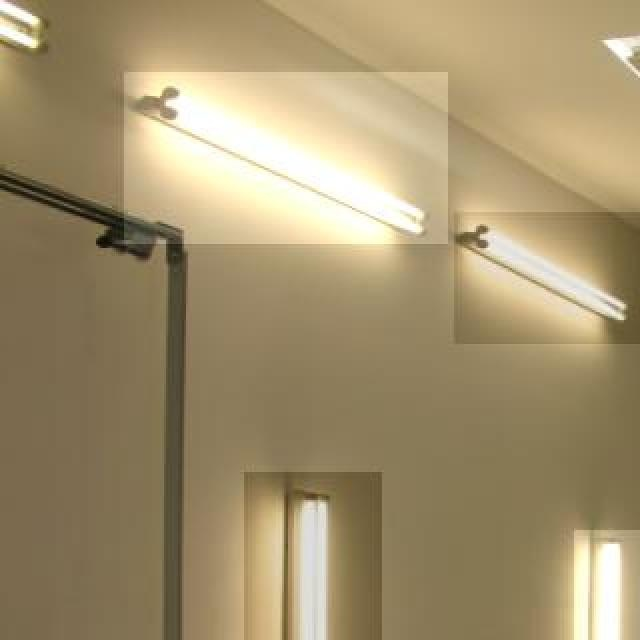fluorescent tube: (140, 80, 425, 236), (471, 224, 638, 331), (276, 482, 358, 640), (560, 536, 634, 640)
